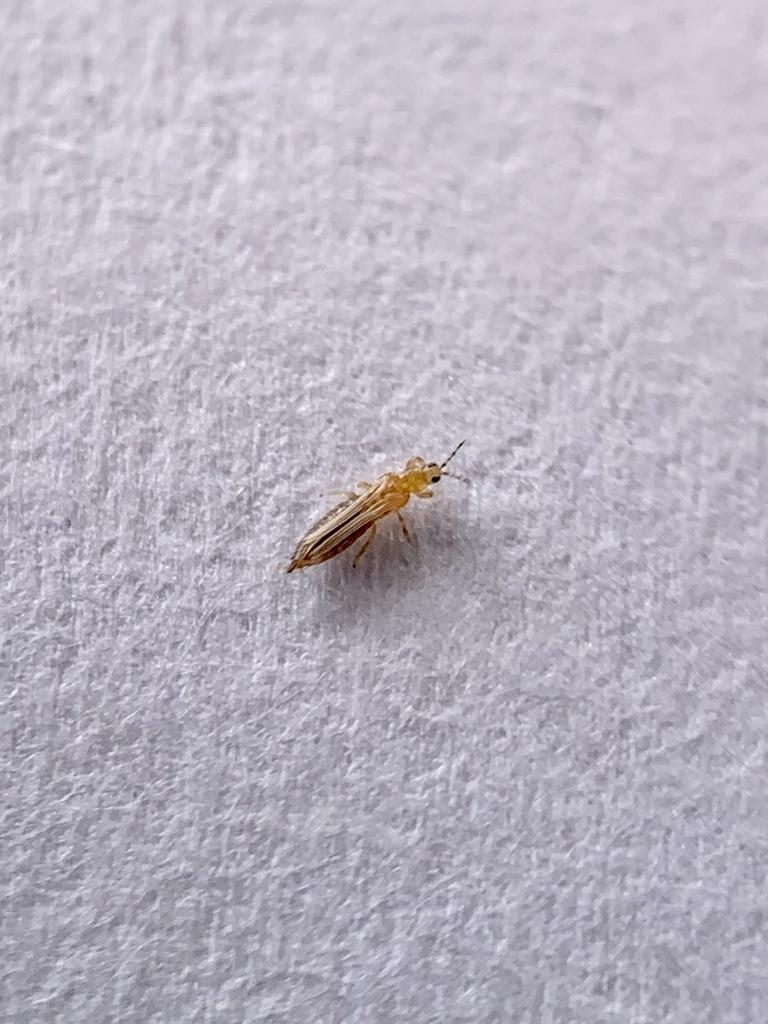tiny_pests: (250, 411, 497, 617)
